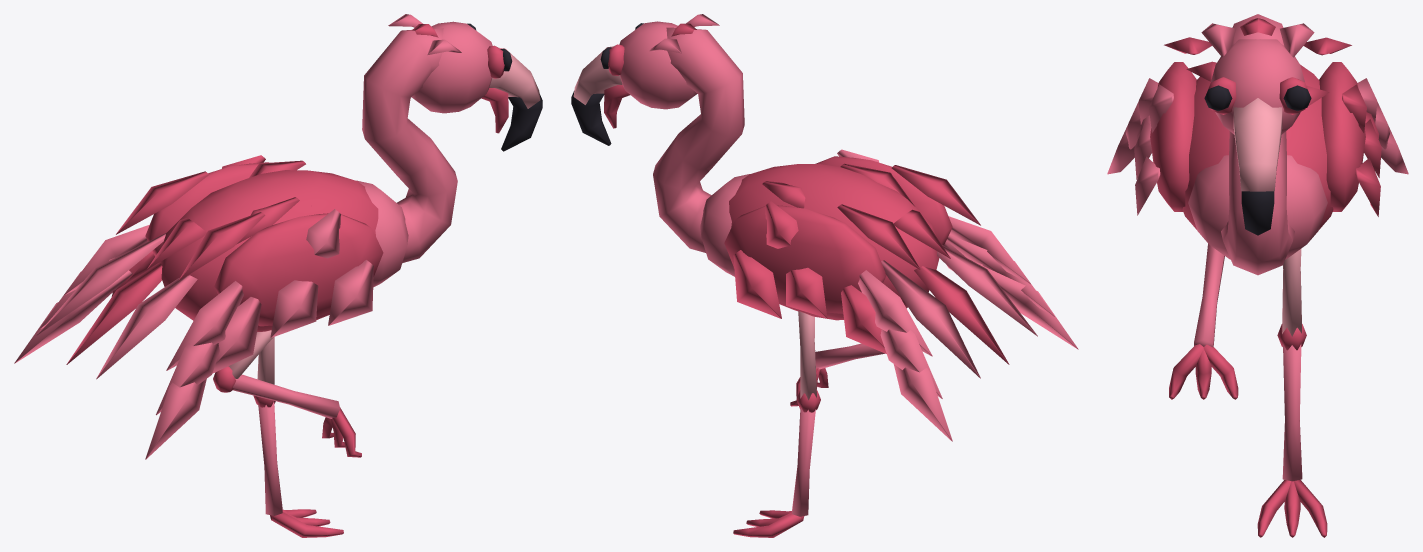
File: amb.flamingo.glb
3 views of the same model, side by side, from view 1: azimuth 30°, elevation 25°; view 2: azimuth 150°, elevation 25°; view 3: azimuth 270°, elevation 25° (orthographic). The views are drawn at different scales.
Parts seen in each view (by area): view 1: body, neck, wingR, head, handR, tail, foreArmR, handL, wingL, shinR, shinL, footL (+2 smaller); view 2: body, neck, wingL, head, handL, tail, handR, foreArmL, wingR, shinL, legL, footL (+1 smaller); view 3: head, body, neck, wingR, wingL, shinL, footL, footR, shinR, handR, handL, legL (+2 smaller).
Boxes of the visible parts, x1,y1,x2,y2 form: body: (116,160,408,331); neck: (362,28,457,262); wingR: (214,209,383,326); head: (388,14,542,151); handR: (145,281,261,459); tail: (36,233,197,379); foreArmR: (270,260,373,337); handL: (14,225,157,363); wingL: (145,155,268,256); shinR: (213,366,340,418); shinL: (253,395,282,515); footL: (270,509,343,537); body: (700,163,980,320); neck: (653,27,744,252); wingL: (724,201,886,313); head: (571,14,719,145); handL: (841,270,952,441); tail: (881,245,1037,378); handR: (944,216,1078,349); foreArmL: (733,250,827,318); wingR: (815,149,952,245); shinL: (792,390,820,516); legL: (798,311,816,400); footL: (733,510,804,537); head: (1201,18,1314,235); body: (1164,37,1351,259); neck: (1221,14,1294,275); wingR: (1149,62,1196,211); wingL: (1319,62,1366,211); shinL: (1277,324,1306,481); footL: (1257,479,1327,537); footR: (1169,344,1238,399); shinR: (1194,243,1224,347); handR: (1107,78,1158,174); handL: (1357,78,1408,174); legL: (1282,249,1301,336).
Size of the model in its own units: 1.59 by 1.6 by 0.7773.
